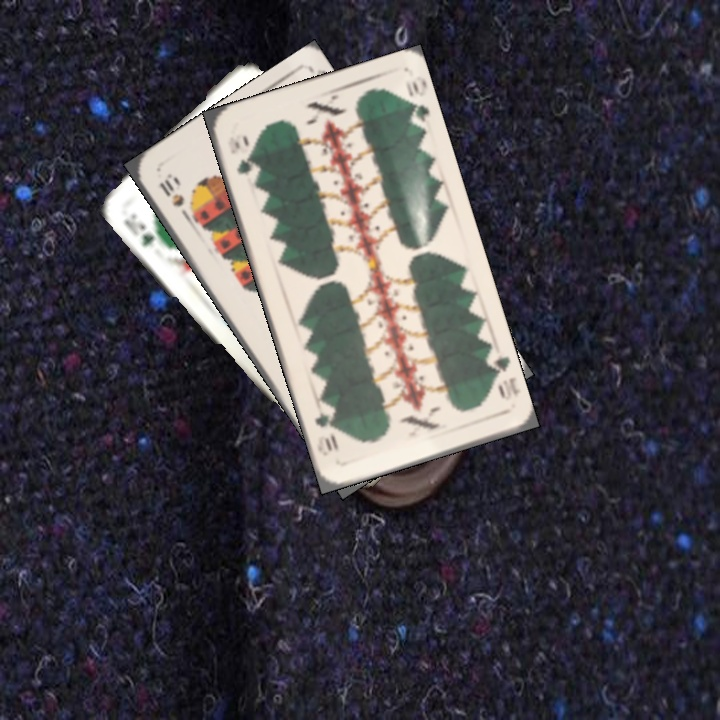G10: (481, 352, 521, 403), (230, 137, 255, 177)
GK: (119, 208, 157, 249)
S10: (155, 171, 193, 223)
